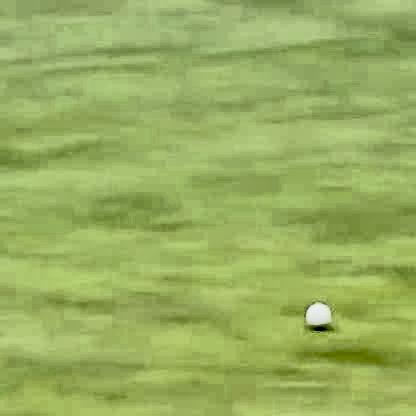golfball: (301, 298, 326, 328)
